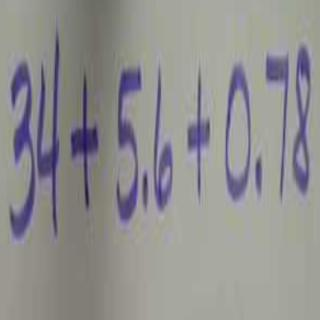.: (253, 153, 265, 197), (141, 169, 149, 210)
0: (223, 63, 252, 204)
3: (7, 59, 36, 241)
4: (36, 22, 63, 241)
5: (112, 66, 142, 224)
6: (151, 64, 174, 210)
7: (263, 51, 291, 204)
8: (291, 43, 312, 200)
